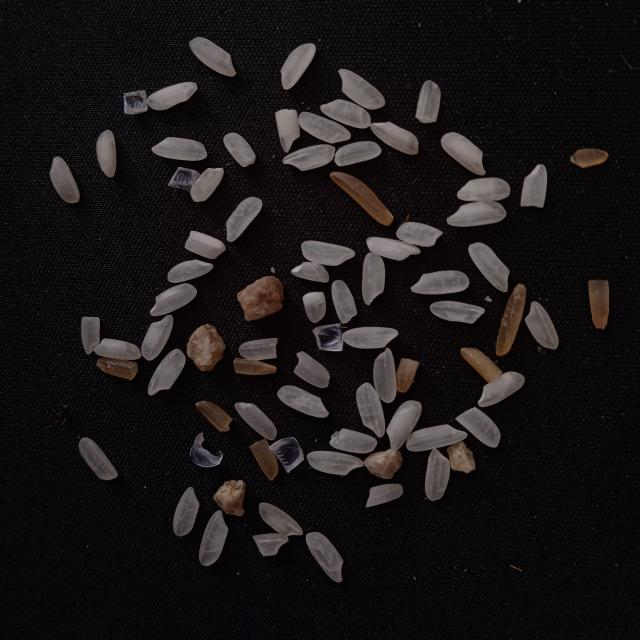Broken: (330, 171, 394, 226), (497, 283, 528, 355), (456, 408, 502, 448), (277, 386, 328, 419), (461, 347, 504, 384), (320, 99, 372, 129), (292, 351, 330, 388), (429, 301, 485, 325), (183, 230, 226, 260), (329, 429, 378, 455), (195, 400, 233, 432), (250, 439, 279, 480), (520, 163, 547, 207), (223, 132, 256, 168), (396, 223, 443, 248), (332, 280, 358, 324), (274, 109, 300, 153), (588, 279, 610, 330), (416, 80, 441, 123), (97, 357, 140, 379), (366, 483, 404, 507), (238, 338, 278, 360), (395, 357, 419, 393), (253, 534, 291, 556), (314, 326, 344, 352), (291, 262, 330, 282), (302, 292, 327, 323), (570, 148, 608, 168), (235, 357, 279, 374), (81, 316, 100, 355)
Full: (469, 243, 511, 294), (338, 69, 386, 110), (305, 532, 343, 583), (440, 132, 485, 175), (189, 37, 236, 77), (386, 399, 422, 451), (148, 347, 186, 394), (280, 42, 317, 90), (298, 112, 352, 144), (80, 437, 120, 480), (356, 381, 386, 438), (236, 402, 279, 441), (406, 426, 468, 453), (370, 121, 419, 155), (225, 197, 262, 242), (478, 372, 525, 407), (524, 302, 558, 350), (200, 508, 228, 566), (446, 201, 507, 227), (150, 283, 197, 316), (257, 502, 302, 536), (142, 316, 175, 362), (282, 144, 336, 172), (146, 82, 198, 111), (307, 450, 364, 476), (50, 156, 81, 203), (301, 240, 356, 266), (411, 271, 470, 295), (172, 487, 199, 538), (151, 136, 207, 160), (427, 447, 452, 500), (366, 237, 420, 261), (342, 327, 398, 350), (375, 348, 398, 403), (363, 253, 387, 305), (458, 178, 512, 201), (167, 259, 214, 284), (334, 142, 382, 166), (191, 168, 224, 202), (92, 340, 141, 361), (96, 130, 116, 178)
